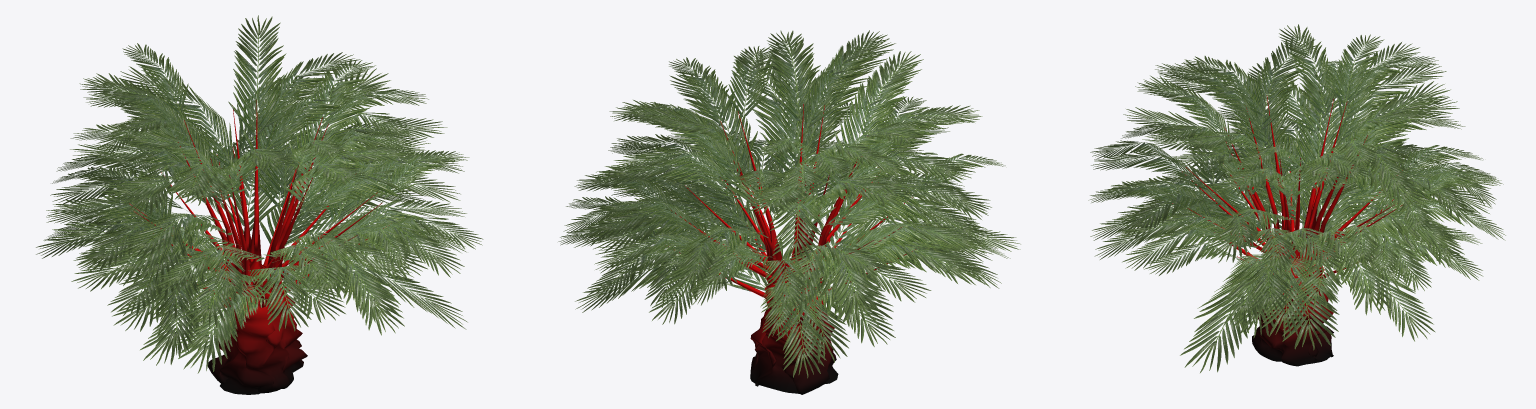
The model's file is Palm_3_2.fbx.
The picture shows the model from 3 angles, left to right: view 1: azimuth 30°, elevation 25°; view 2: azimuth 150°, elevation 25°; view 3: azimuth 270°, elevation 25°; orthographic projection. The views are drawn at different scales.
Parts seen in each view (by area): view 1: Palm_3_2; view 2: Palm_3_2; view 3: Palm_3_2.
Boxes of the visible parts, x1,y1,x2,y2 form: Palm_3_2: [36, 15, 483, 394]; Palm_3_2: [558, 30, 1020, 394]; Palm_3_2: [1088, 24, 1505, 372].
Bounding box in the file's own units: 4488 × 2873 × 4379.
